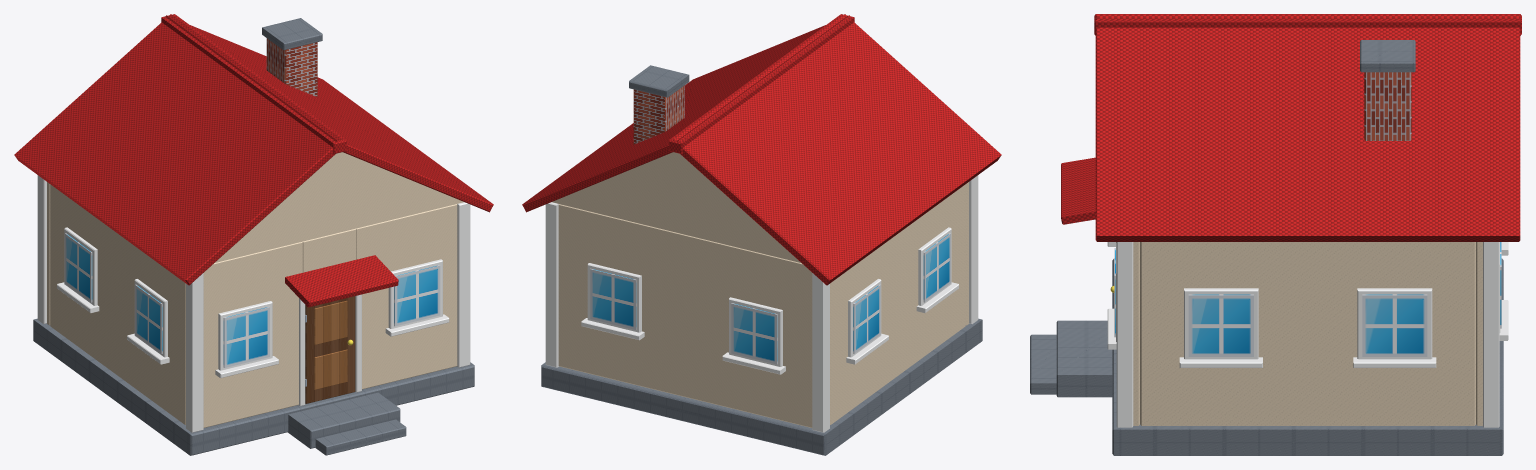
Rendered from house_small.glb.
3 renders of one model, left to right at view 1: azimuth 30°, elevation 25°; view 2: azimuth 150°, elevation 25°; view 3: azimuth 270°, elevation 25°, orthographic. The views are drawn at different scales.
Visible parts, largest first — view 1: house_small, door_pivot; view 2: house_small; view 3: house_small.
Boxes of the visible parts, x1=… form: house_small: x1=14, y1=14, x2=493, y2=455; door_pivot: x1=305, y1=296, x2=355, y2=403; house_small: x1=522, y1=14, x2=1001, y2=455; house_small: x1=1030, y1=14, x2=1521, y2=455.
Size of the model in its own units: 6.35 by 5.74 by 7.08.
Materials: 11 (8 with a texture image).
